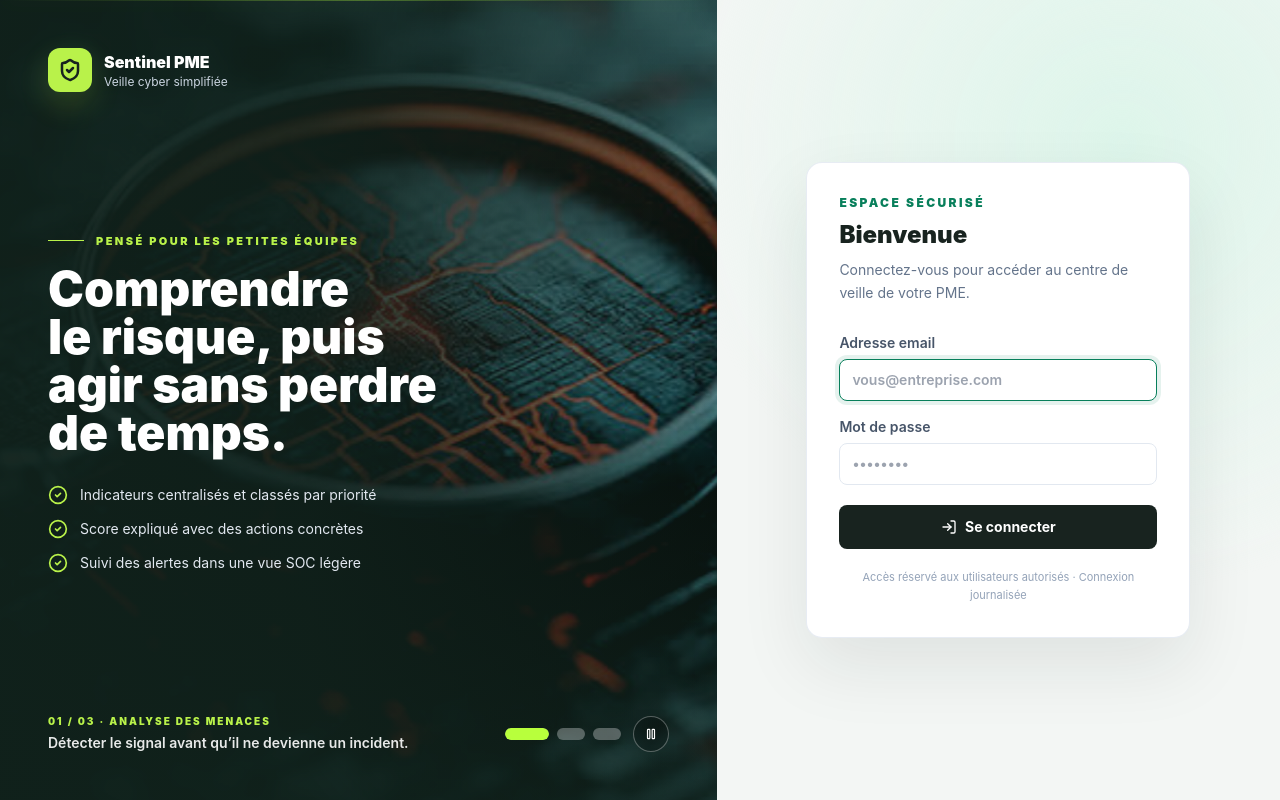
Login › affiche une erreur si les identifiants sont invalides
Type "admin@pme-cyber.local" into the field labelled "Adresse email" at (998, 380), box [839,359,1157,401]
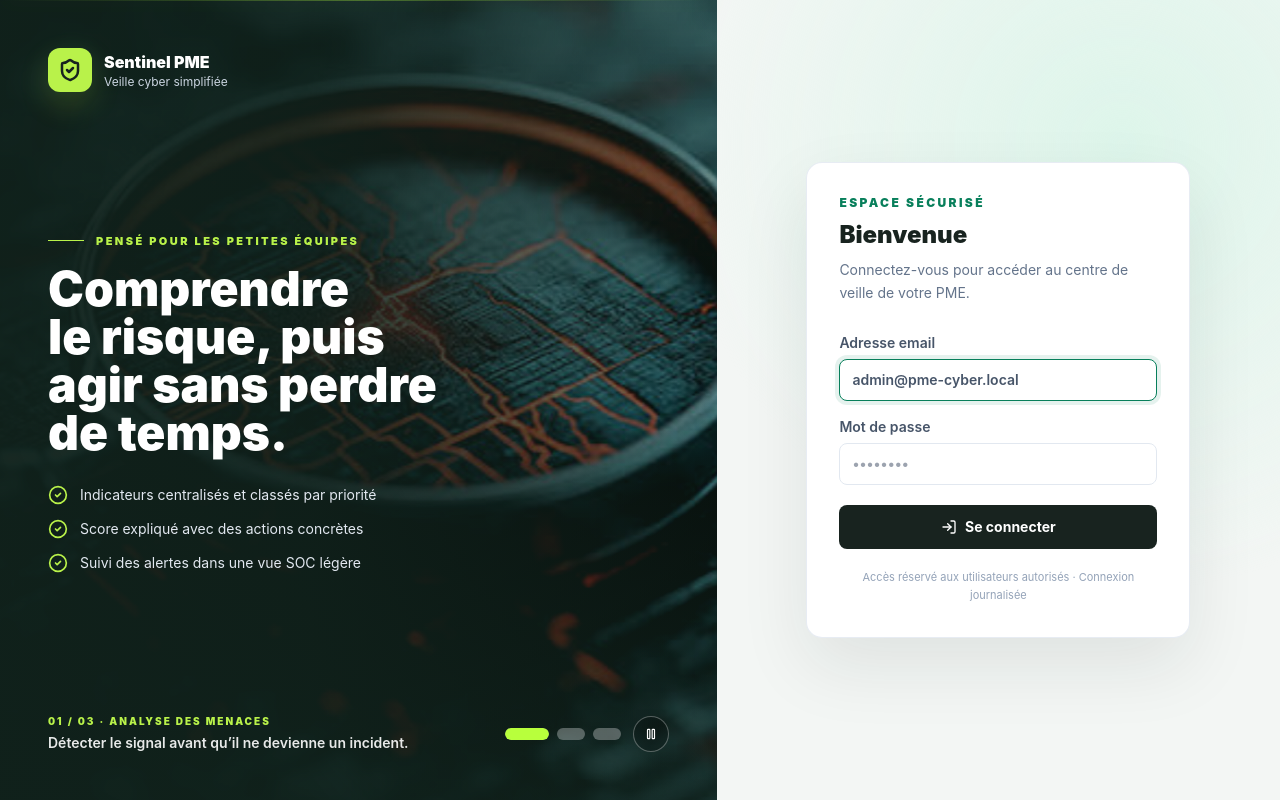
Type "wrong" into the password field labelled "Mot de passe" at (998, 464), box [839,443,1157,485]
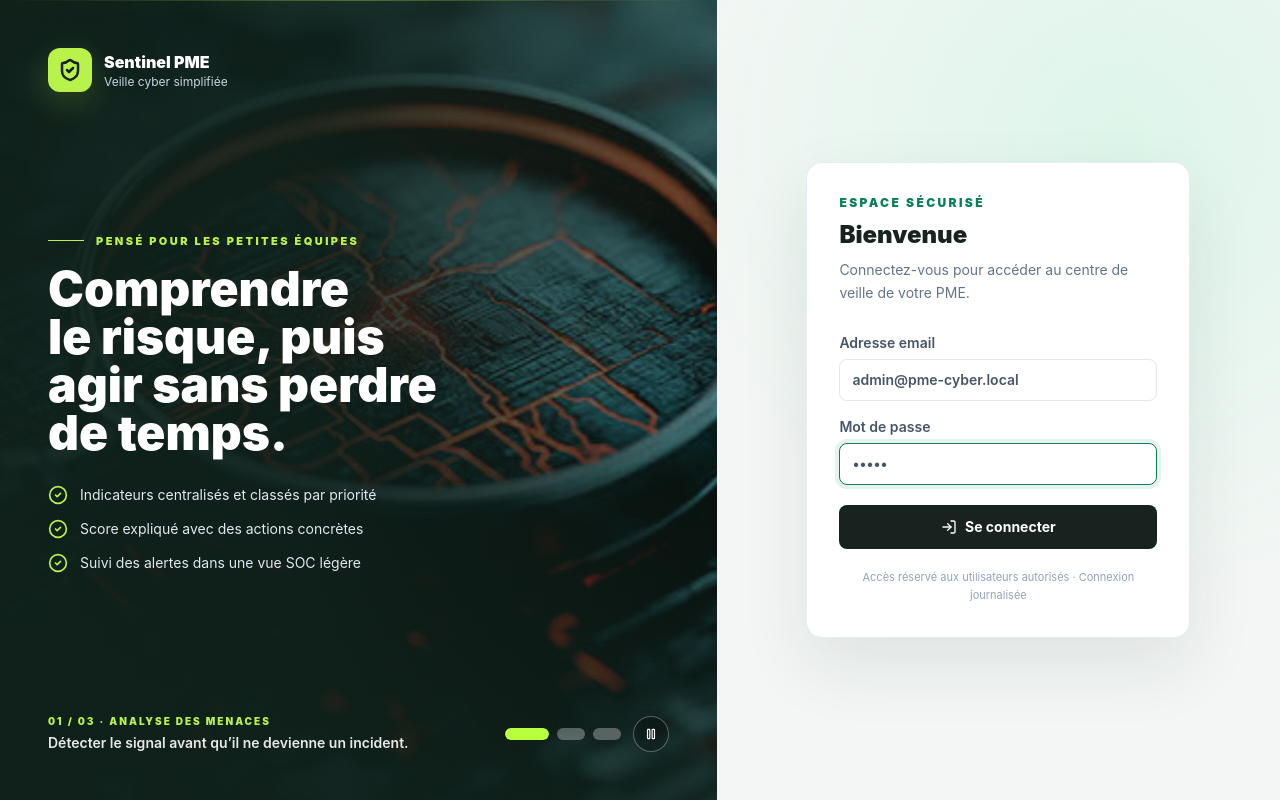
Click the button "Se connecter" at (998, 527), box [839,505,1157,549]
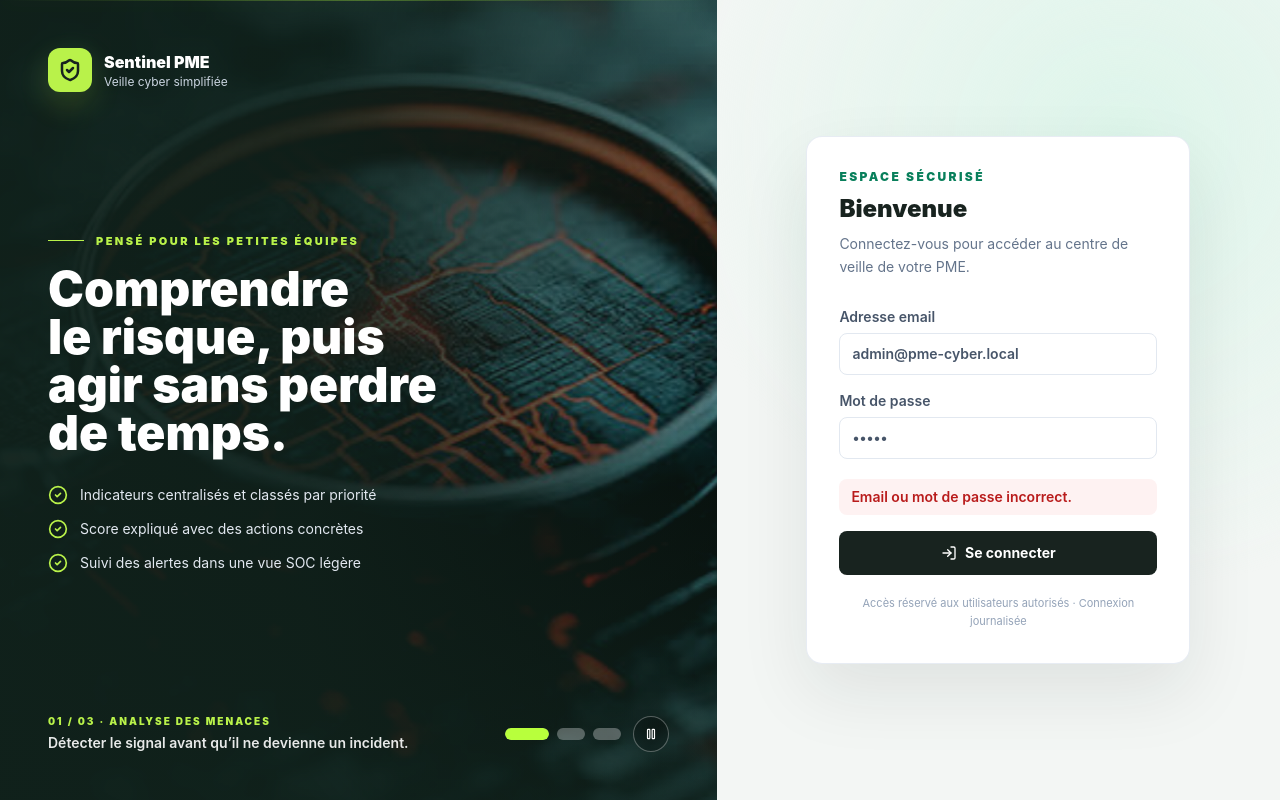
Result: the text "Email ou mot de passe incorrect." is shown at [839,479,1157,515]
